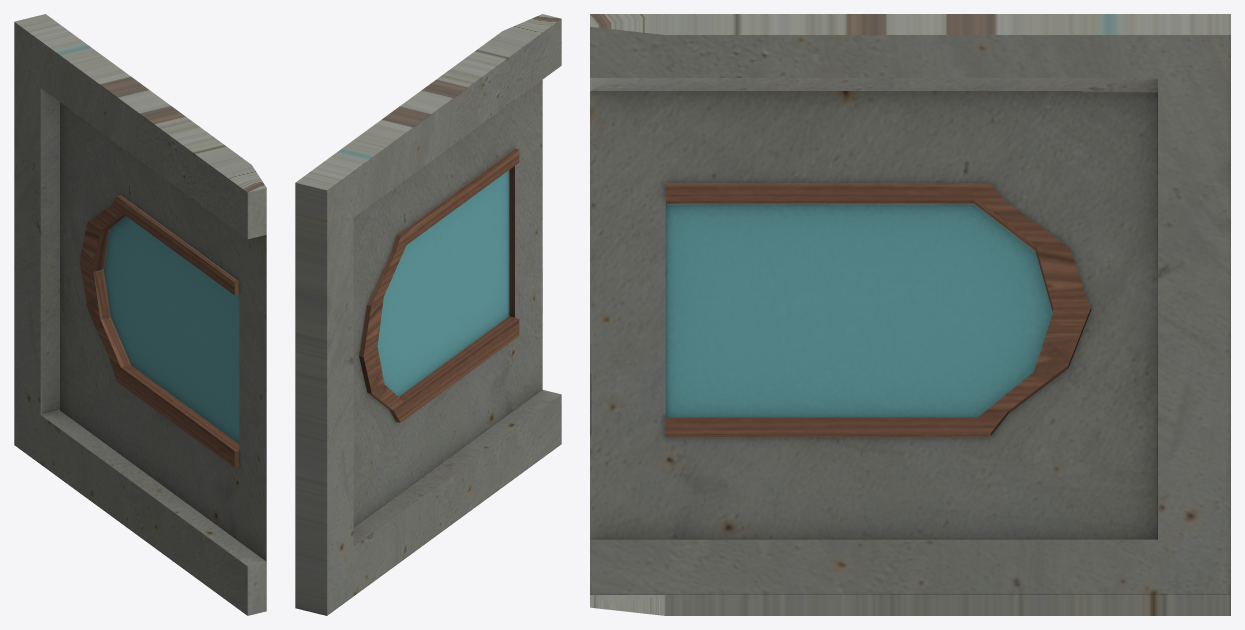
The model's file is WIndowTextured01.fbx.
3 views of the same model, side by side, from view 1: azimuth 30°, elevation 25°; view 2: azimuth 150°, elevation 25°; view 3: azimuth 270°, elevation 25° (orthographic). The views are drawn at different scales.
Visible parts, largest first — view 1: Plane.002; view 2: Plane.002; view 3: Plane.002.
Part boxes in pixels (x1,y1,x2,y2): Plane.002: (14,14,266,615); Plane.002: (295,14,561,615); Plane.002: (590,14,1230,615).
Size of the model in its own units: 7.79 by 100 by 100.
